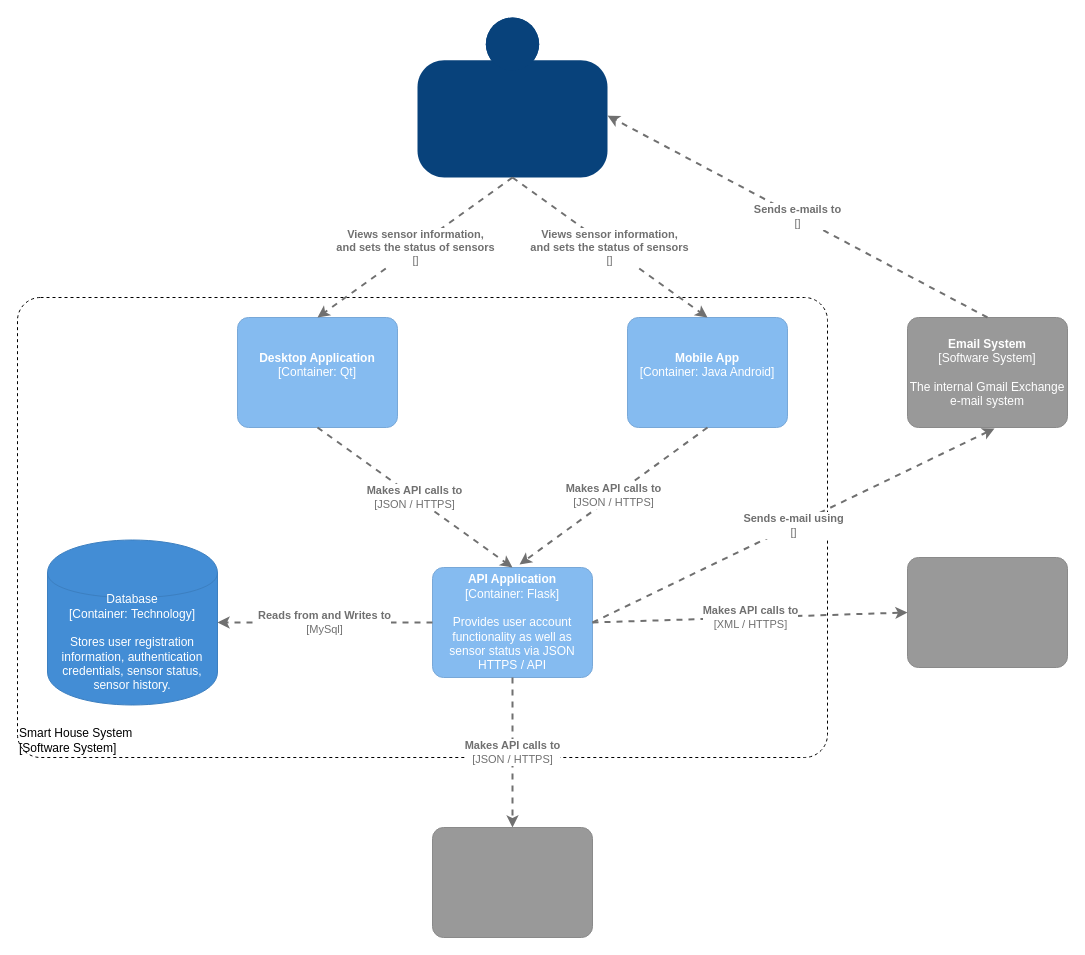
Some shapes in this 1085 by 955 pixel diagram are drawn without their labels. Each missing label, with the centre of its shape:
Customer [Person] A customer of the smart house system: the point at 512,97
ScadaBR [Software System] ScadaBR - Home control supervisory software: the point at 987,612
Sensor Wifi Controller [Software System] Get sensor information: the point at 512,882
